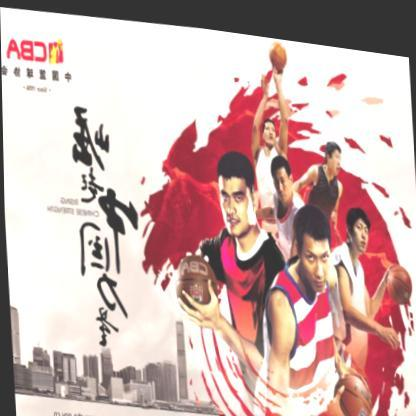basketball: (170, 238, 221, 320), (328, 357, 376, 416), (261, 31, 295, 70), (385, 252, 412, 295)
